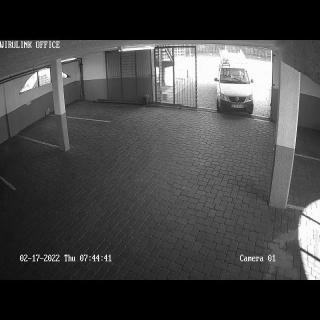car: (214, 59, 254, 114)
